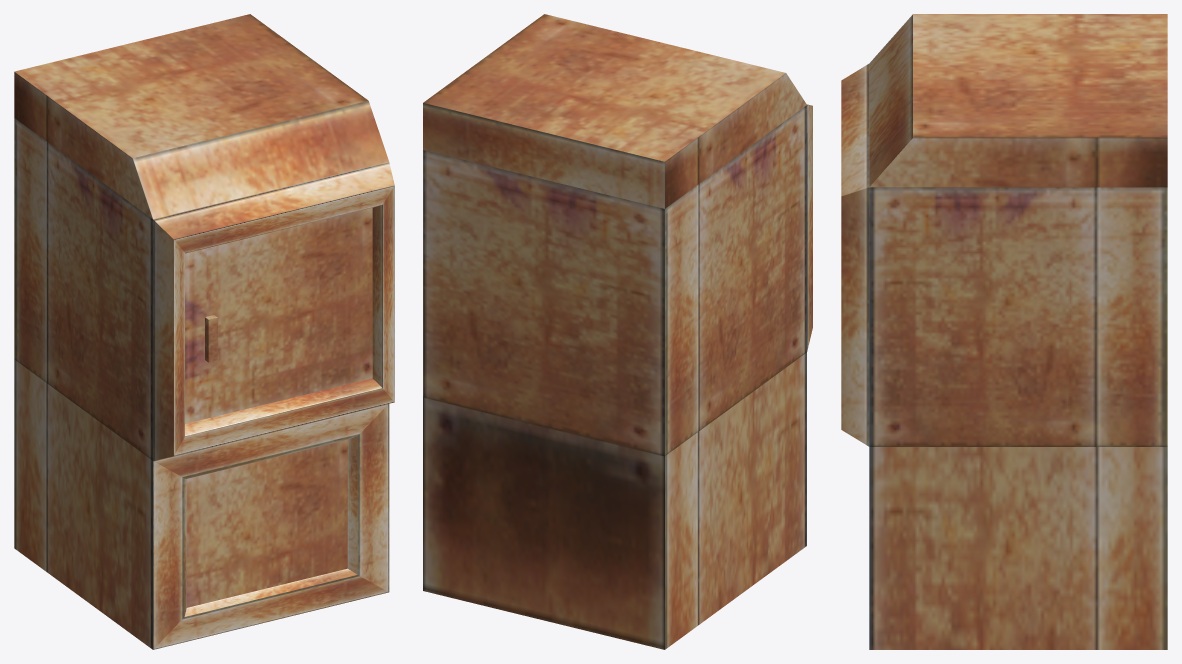
Rendered from Model_NewsPaper_Box_01.fbx.
3 renders of one model, left to right at view 1: azimuth 30°, elevation 25°; view 2: azimuth 150°, elevation 25°; view 3: azimuth 270°, elevation 25°, orthographic. The views are drawn at different scales.
Visible parts, largest first — view 1: NewsPaper_Box_01; view 2: NewsPaper_Box_01; view 3: NewsPaper_Box_01.
Part boxes in pixels (x1,y1,x2,y2): NewsPaper_Box_01: [14, 14, 394, 649]; NewsPaper_Box_01: [423, 14, 812, 649]; NewsPaper_Box_01: [841, 14, 1167, 649].
Bounding box in the file's own units: 123 × 238 × 138.
